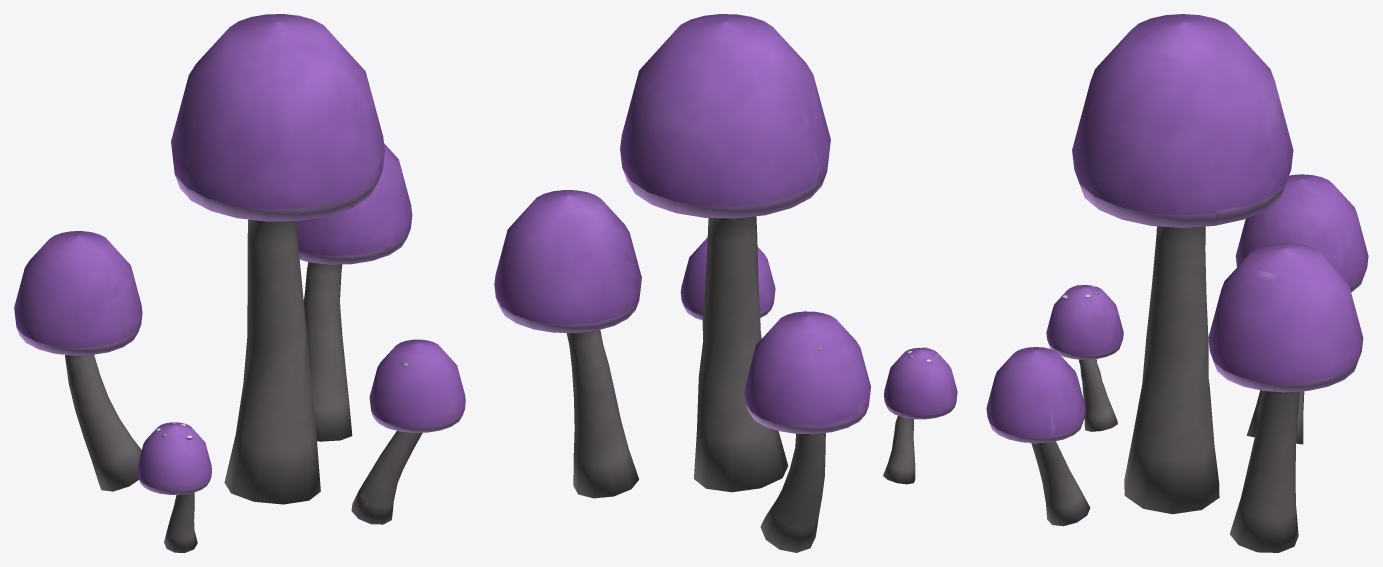
File: glowcap_cluster.obj
3 renders of one model, left to right at view 1: azimuth 30°, elevation 25°; view 2: azimuth 150°, elevation 25°; view 3: azimuth 270°, elevation 25°, orthographic. The views are drawn at different scales.
Visible parts, largest first — view 1: part1, part0, fire; view 2: part1, part0, fire; view 3: part1, part0, fire.
Boxes of the visible parts, box(x1,y1,x2,y2) form: part1: box(14, 14, 465, 490); part0: box(65, 219, 422, 552); fire: box(17, 170, 464, 494); part1: box(494, 14, 957, 426); part0: box(566, 216, 915, 552); fire: box(496, 168, 955, 434); part1: box(986, 14, 1368, 437); part0: box(1031, 226, 1304, 552); fire: box(990, 184, 1363, 443).
Size of the model in its own units: 0.8152 by 0.982 by 0.7042.
